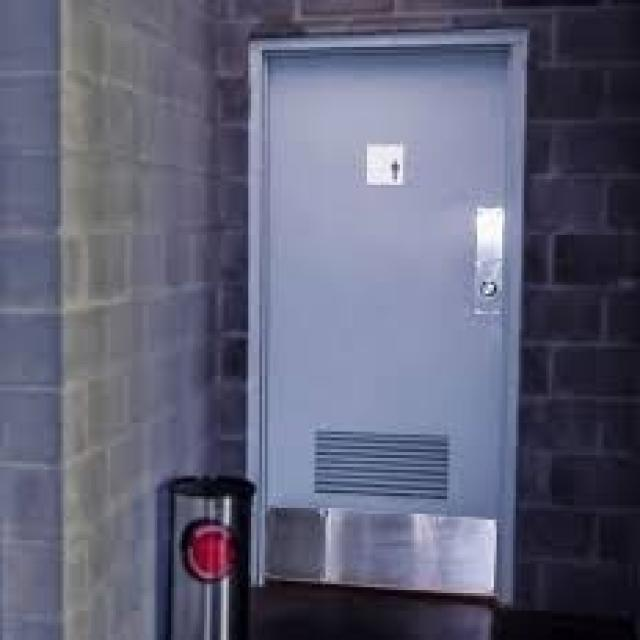door: (244, 27, 526, 610)
